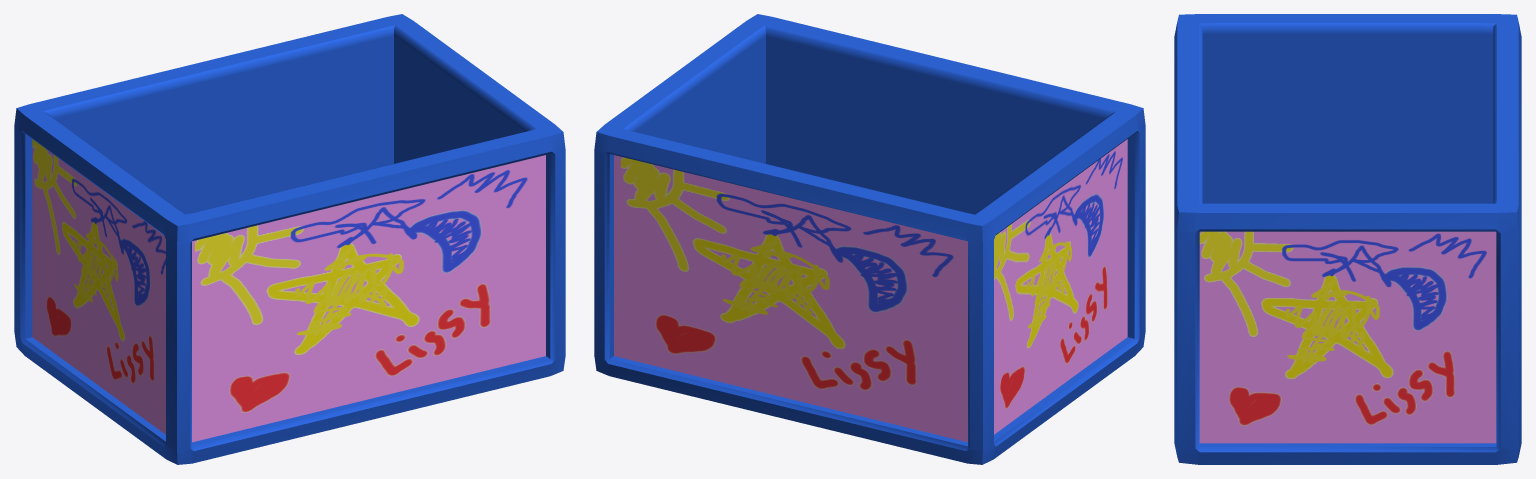
The model's file is toy_box.fbx.
3 renders of one model, left to right at view 1: azimuth 30°, elevation 25°; view 2: azimuth 150°, elevation 25°; view 3: azimuth 270°, elevation 25°, orthographic. The views are drawn at different scales.
Visible parts, largest first — view 1: Bottom; view 2: Bottom; view 3: Bottom.
Part boxes in pixels (x1=…): Bottom: x1=14, y1=14, x2=565, y2=464; Bottom: x1=594, y1=14, x2=1145, y2=464; Bottom: x1=1174, y1=14, x2=1521, y2=464.
Size of the model in its own units: 73.78 by 43.62 by 53.75.
